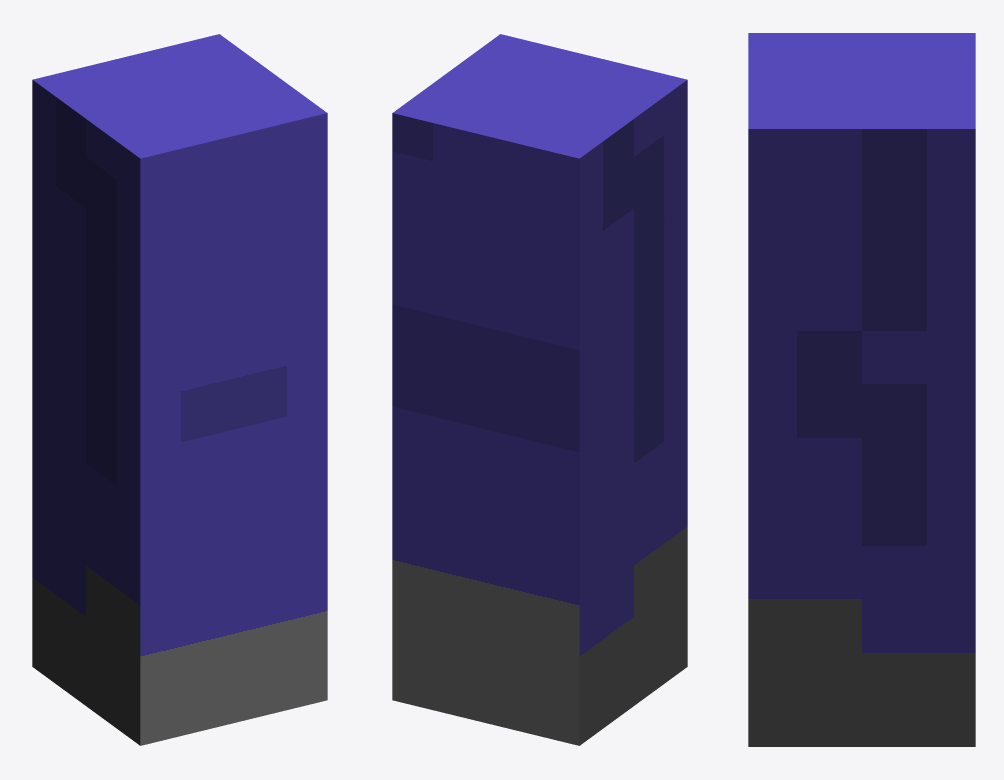
Rendered from pierna_derecha.obj.
3 views of the same model, side by side, from view 1: azimuth 30°, elevation 25°; view 2: azimuth 150°, elevation 25°; view 3: azimuth 270°, elevation 25° (orthographic). The views are drawn at different scales.
Parts seen in each view (by area): view 1: pierna_derecha; view 2: pierna_derecha; view 3: pierna_derecha.
Part boxes in pixels (x1=…): pierna_derecha: x1=32, y1=34, x2=327, y2=745; pierna_derecha: x1=392, y1=34, x2=687, y2=745; pierna_derecha: x1=748, y1=33, x2=975, y2=746.
Bounding box in the file's own units: 4.5 × 12.5 × 4.5.
